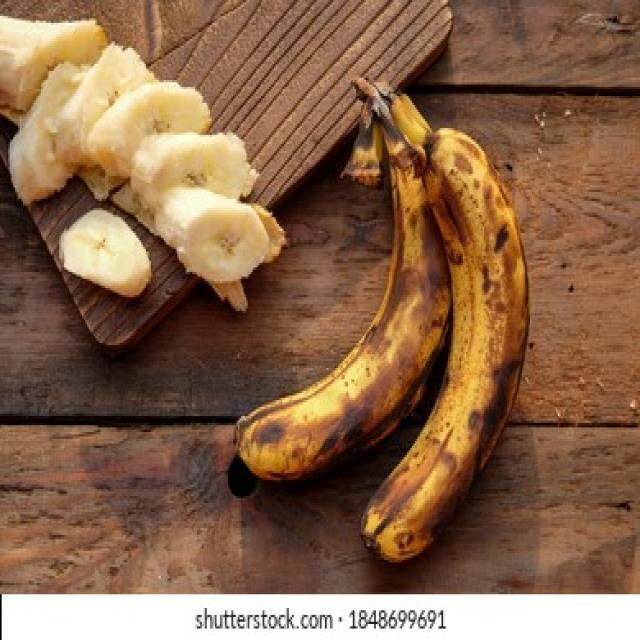banana: (222, 69, 534, 569)
